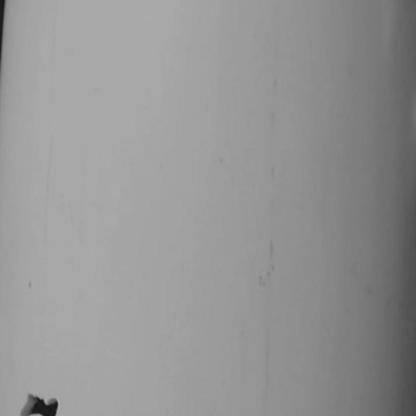kongdong: (6, 390, 79, 416)
